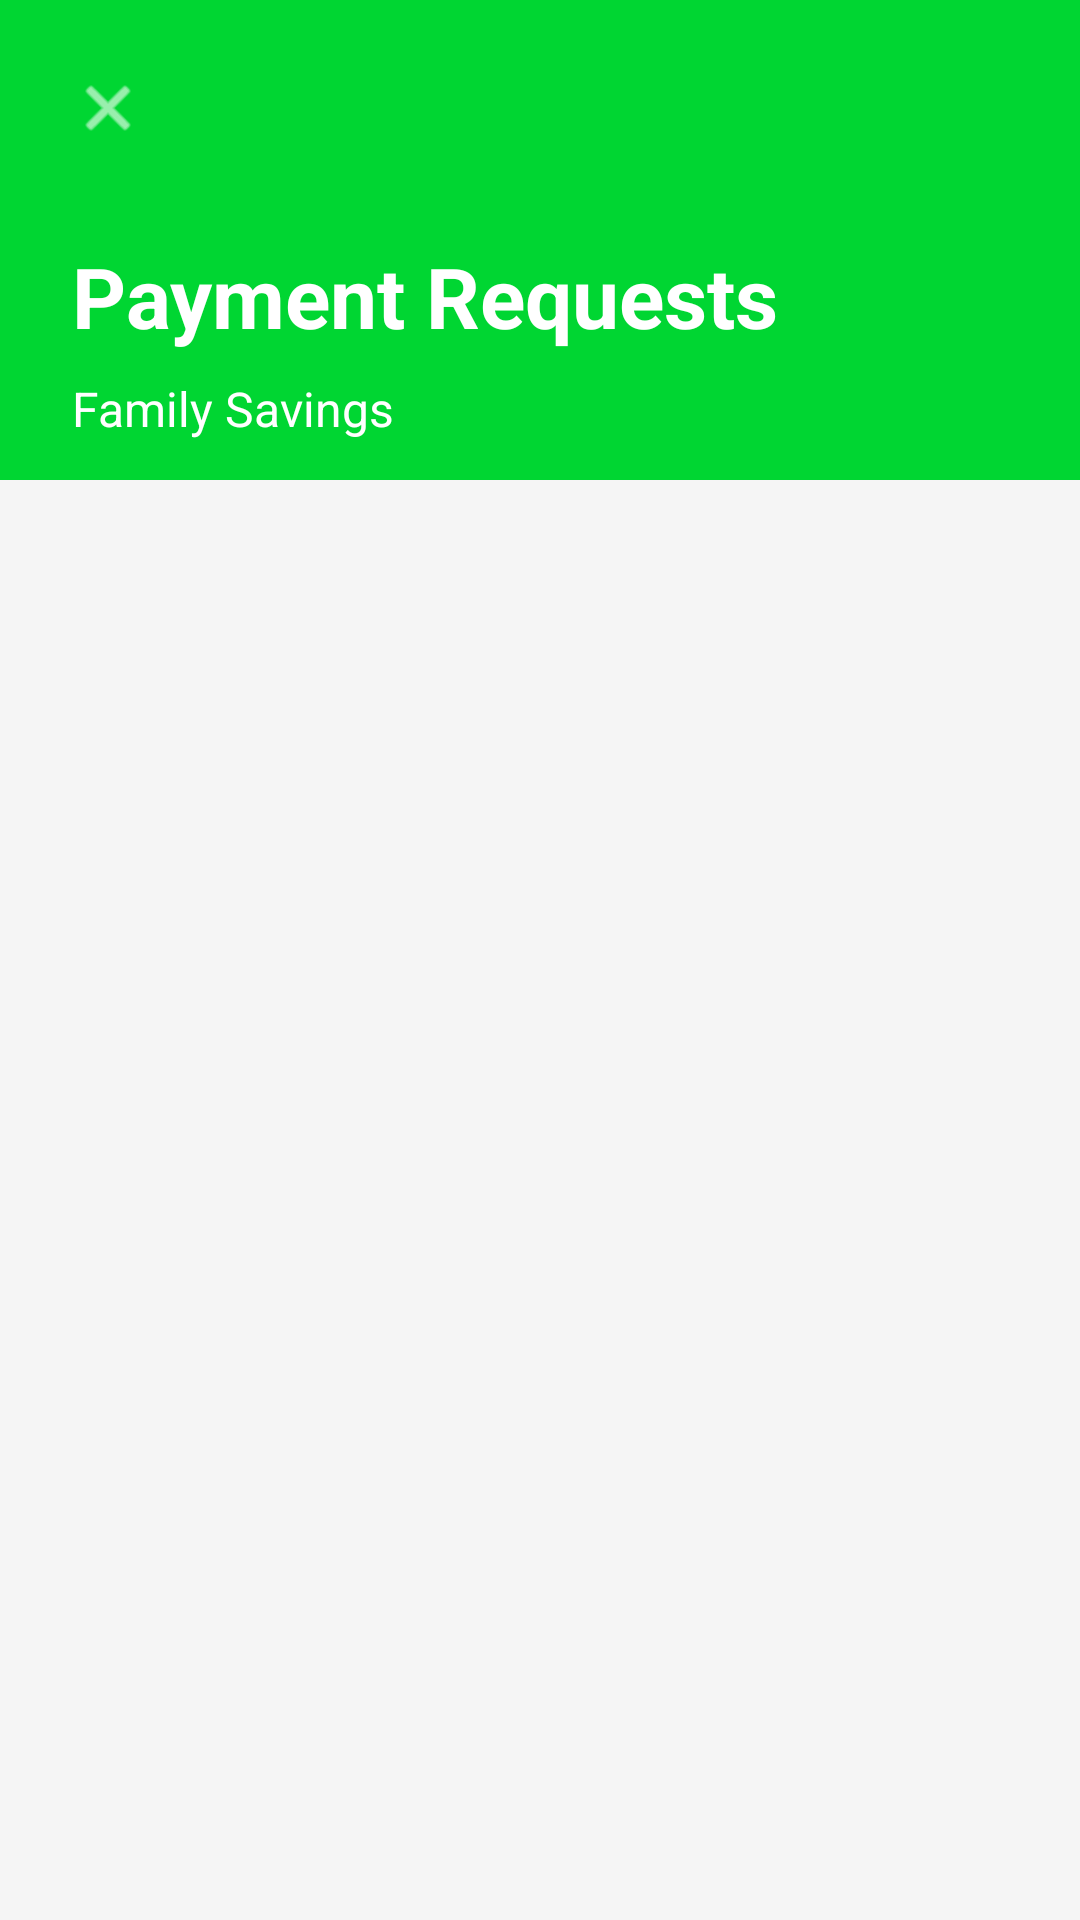

Locate icon controls on the screen. Image size 1080 × 1920, boxes as (x1=x1, y1=y1, x2=x2, y2=y2).
close clear cancel: (x1=85, y1=85, x2=131, y2=131)
